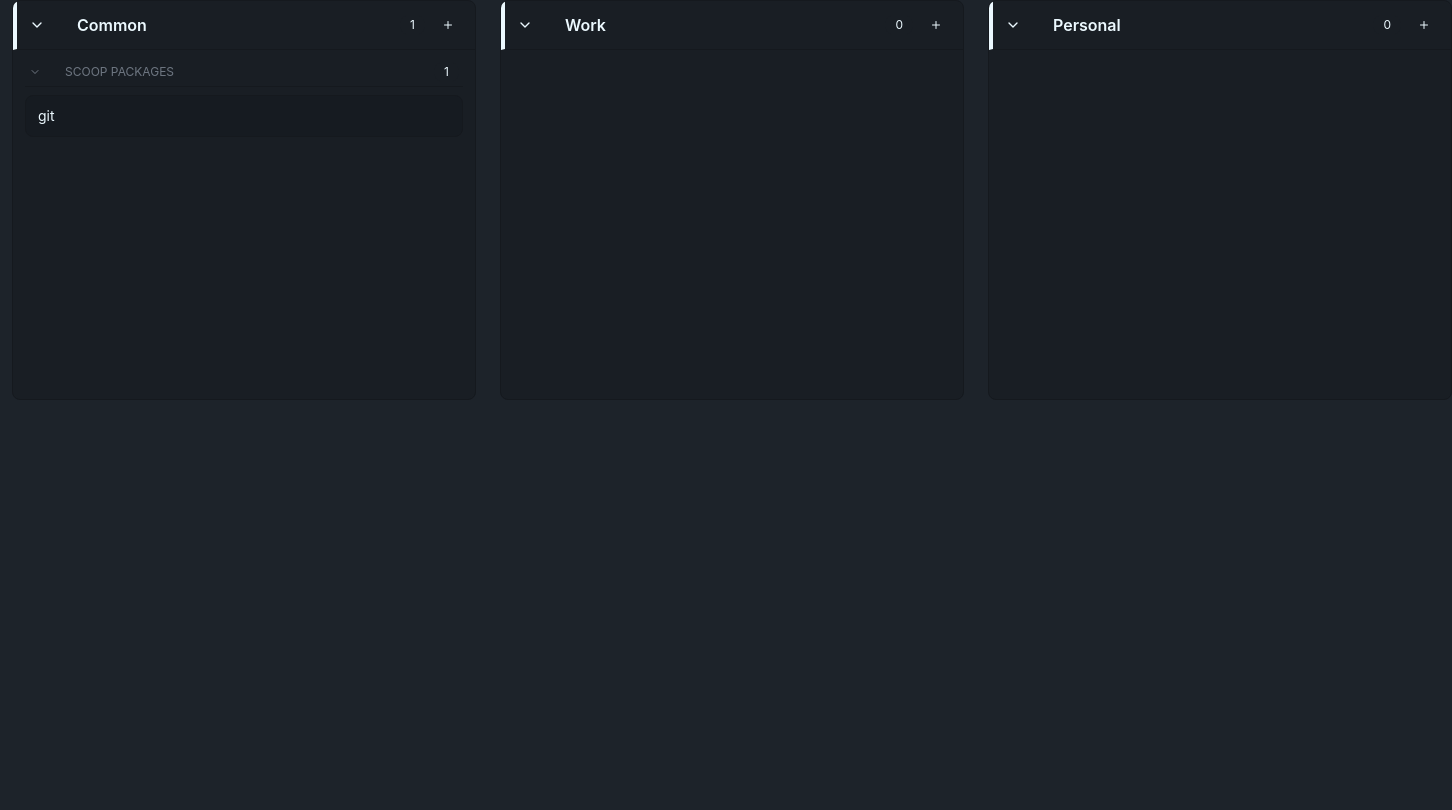
it: JsonEditor › closes context menu when clicking outside
The image size is (1452, 810).
Right-click the text "git" at (46, 116), box [38,107,55,124]
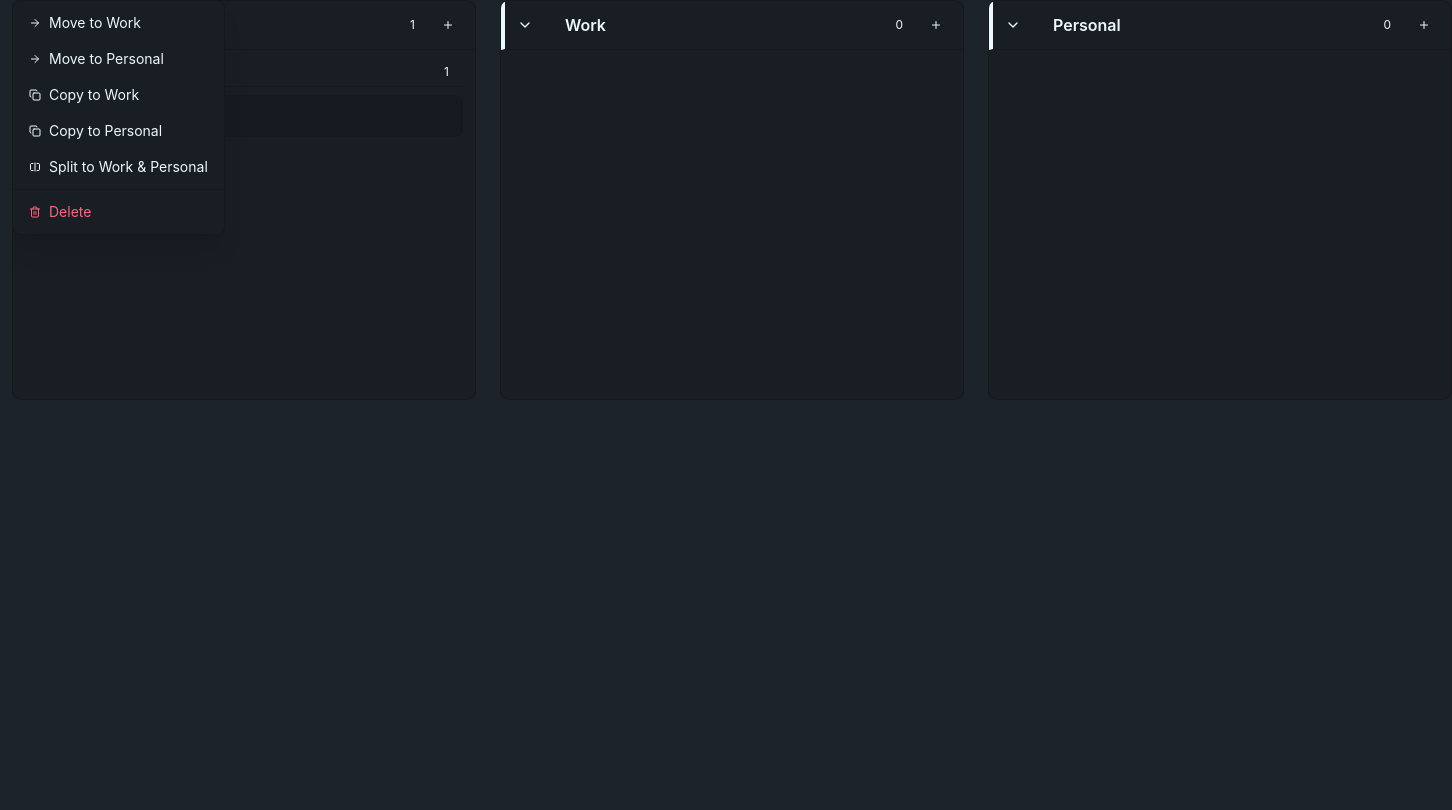
Now the element with test id "context-menu" is shown, box [12,0,225,235]
# Click outside the menu
Press the mouse on the element that starts with "Common" at (732, 405), box [12,0,1451,809]
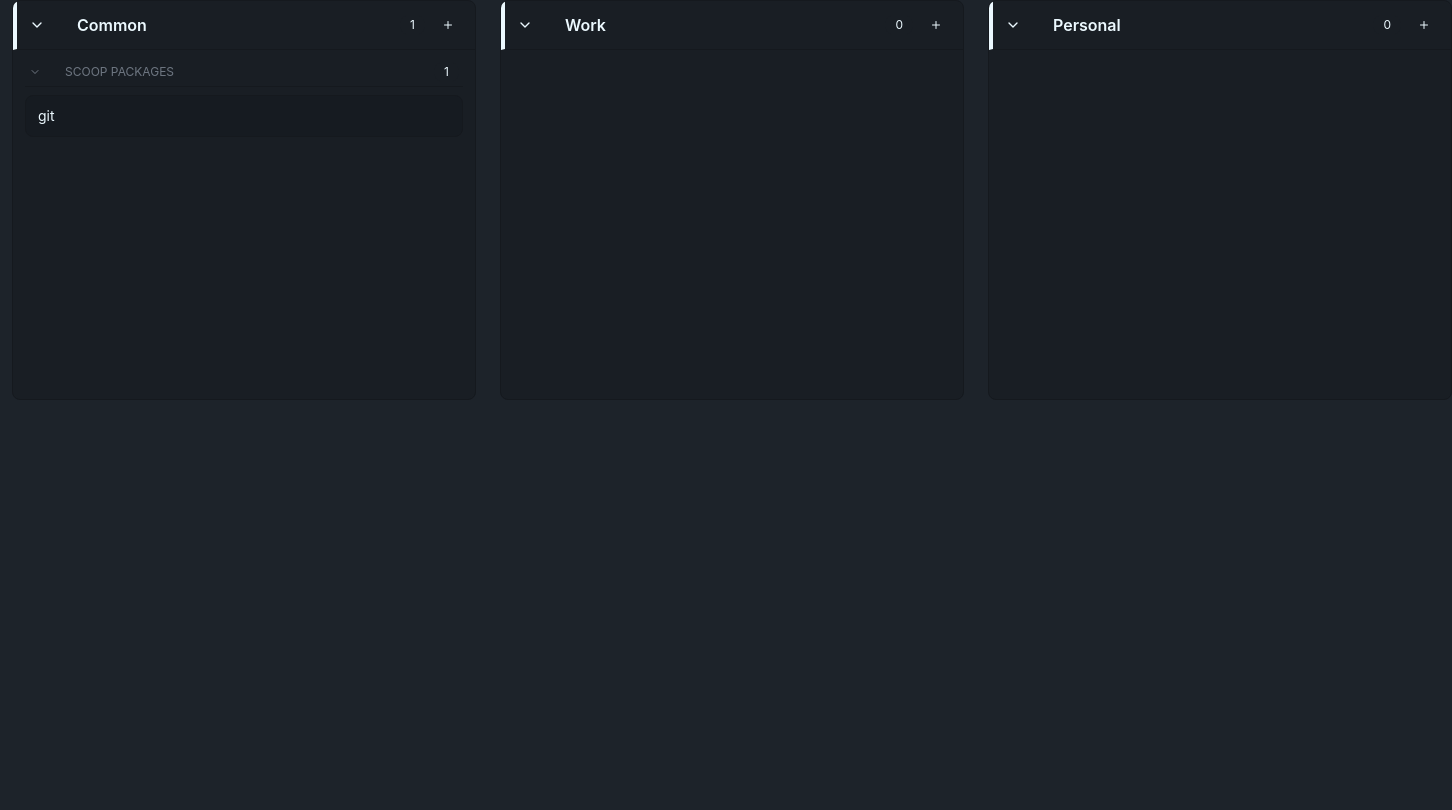
Now the element with test id "context-menu" is gone
